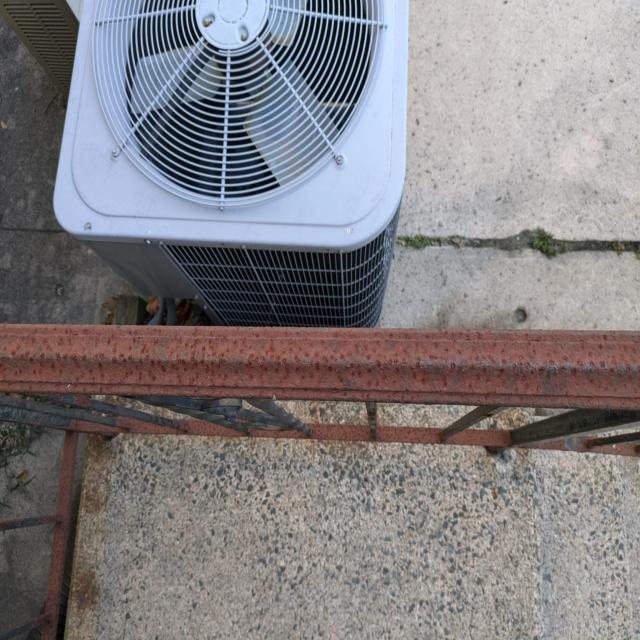Filiform Corrosion: (121, 396, 312, 438), (1, 395, 182, 430), (511, 409, 640, 445), (442, 407, 506, 443), (1, 516, 56, 532), (1, 621, 40, 640)
Uniform Corrosion: (39, 419, 512, 640), (1, 325, 640, 411)
